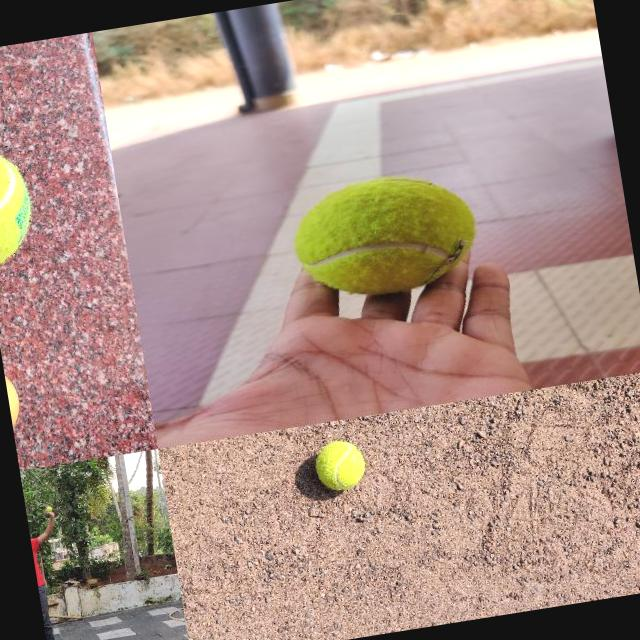tennis-ball: (284, 165, 484, 308), (0, 136, 39, 269), (312, 438, 368, 494), (47, 506, 53, 512)
